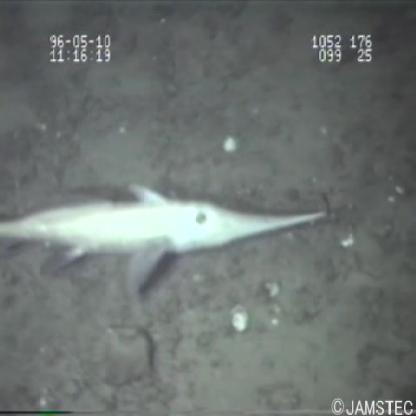Bio: (1, 178, 334, 305)
